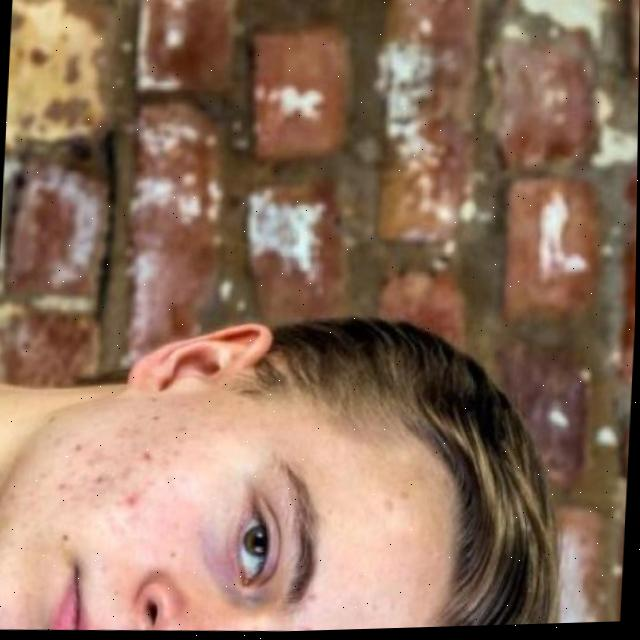Acne: (28, 412, 191, 567)
